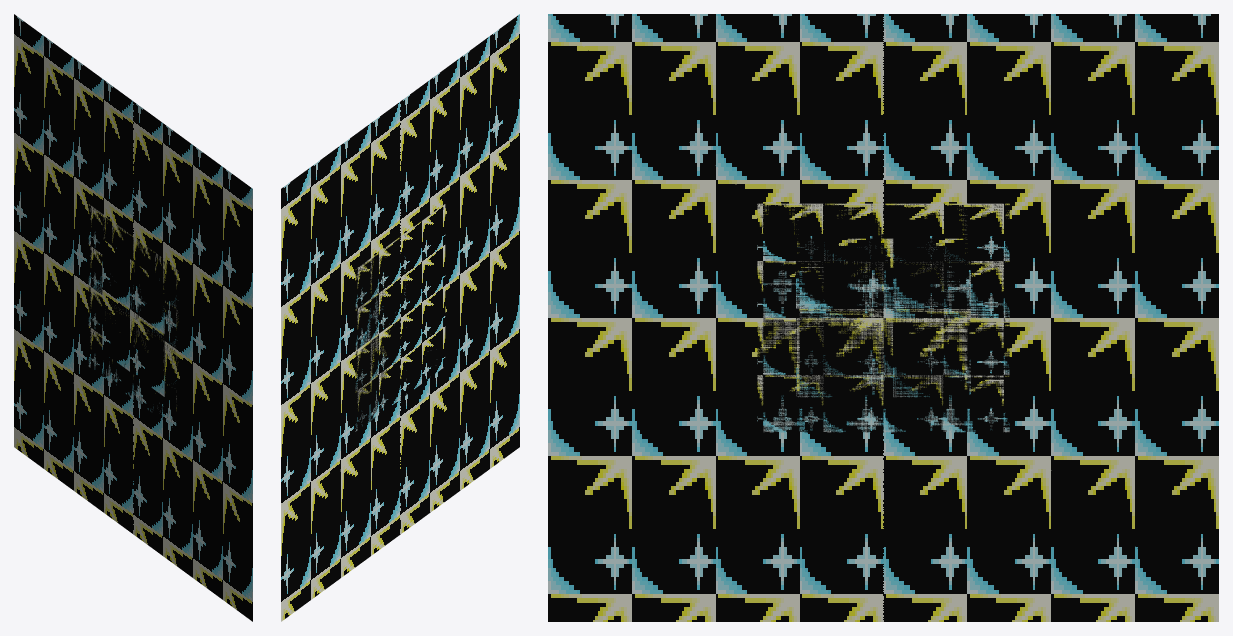
3 renders of one model, left to right at view 1: azimuth 30°, elevation 25°; view 2: azimuth 150°, elevation 25°; view 3: azimuth 270°, elevation 25°, orthographic. The views are drawn at different scales.
Parts seen in each view (by area): view 1: ef_152; view 2: ef_152; view 3: ef_152.
Boxes of the visible parts, x1=… form: ef_152: x1=14, y1=14, x2=252, y2=621; ef_152: x1=281, y1=14, x2=519, y2=621; ef_152: x1=548, y1=14, x2=1218, y2=621.
Bounding box in the file's own units: 0 × 0.5 × 0.5.
Materials: 1 (1 with a texture image).
